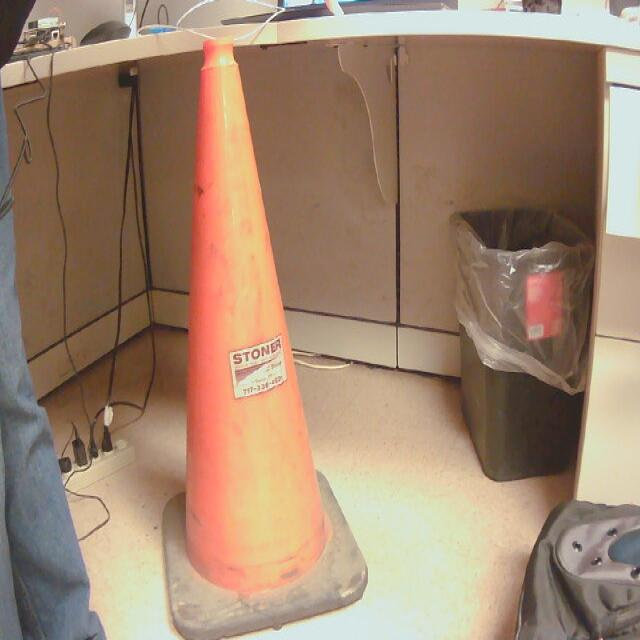traffic cone: (164, 42, 369, 640)
